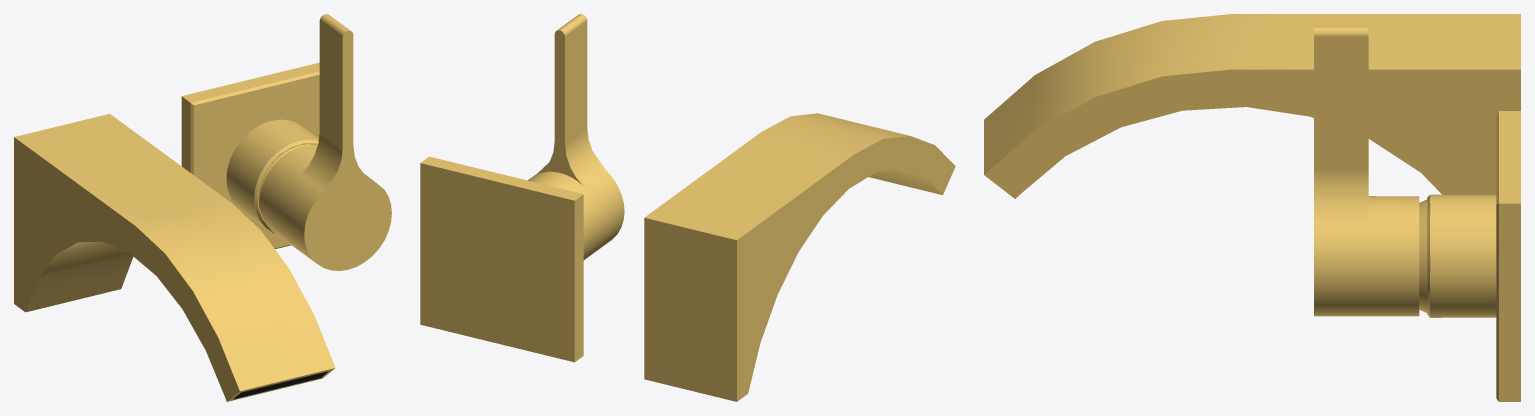
The picture shows the model from 3 angles, left to right: view 1: azimuth 30°, elevation 25°; view 2: azimuth 150°, elevation 25°; view 3: azimuth 270°, elevation 25°; orthographic projection. The views are drawn at different scales.
Parts seen in each view (by area): view 1: L_c026b5e7_eb11_40d8_b0c1_1b7583ea4081_I4, L_928a727d_b490_44d4_9528_7d3cccf2d2c7_I3, L_e762c9f9_117b_4ea6_9dad_26d7e7ed9bc8_I6, L_c2266ba6_3cfb_489b_acec_95be93e11fa8_I5, L_02e41cbb_ec39_4ad6_bd15_9f65e2306764_I1; view 2: L_c026b5e7_eb11_40d8_b0c1_1b7583ea4081_I4, L_e762c9f9_117b_4ea6_9dad_26d7e7ed9bc8_I6, L_928a727d_b490_44d4_9528_7d3cccf2d2c7_I3; view 3: L_c026b5e7_eb11_40d8_b0c1_1b7583ea4081_I4, L_928a727d_b490_44d4_9528_7d3cccf2d2c7_I3, L_c2266ba6_3cfb_489b_acec_95be93e11fa8_I5, L_e762c9f9_117b_4ea6_9dad_26d7e7ed9bc8_I6, L_39e64315_0de5_4fbe_98ba_65e3bbbd578a_I2.
Boxes of the visible parts, x1,y1,x2,y2 form: L_c026b5e7_eb11_40d8_b0c1_1b7583ea4081_I4: (14, 113, 335, 401); L_928a727d_b490_44d4_9528_7d3cccf2d2c7_I3: (260, 14, 391, 270); L_e762c9f9_117b_4ea6_9dad_26d7e7ed9bc8_I6: (181, 62, 319, 249); L_c2266ba6_3cfb_489b_acec_95be93e11fa8_I5: (226, 119, 318, 233); L_02e41cbb_ec39_4ad6_bd15_9f65e2306764_I1: (233, 371, 328, 399); L_c026b5e7_eb11_40d8_b0c1_1b7583ea4081_I4: (644, 113, 955, 401); L_e762c9f9_117b_4ea6_9dad_26d7e7ed9bc8_I6: (420, 156, 583, 362); L_928a727d_b490_44d4_9528_7d3cccf2d2c7_I3: (528, 14, 624, 260); L_c026b5e7_eb11_40d8_b0c1_1b7583ea4081_I4: (984, 14, 1520, 198); L_928a727d_b490_44d4_9528_7d3cccf2d2c7_I3: (1314, 26, 1419, 316); L_c2266ba6_3cfb_489b_acec_95be93e11fa8_I5: (1427, 194, 1496, 317); L_e762c9f9_117b_4ea6_9dad_26d7e7ed9bc8_I6: (1496, 111, 1520, 401); L_39e64315_0de5_4fbe_98ba_65e3bbbd578a_I2: (1419, 199, 1427, 312).
Size of the model in its own units: 0.164 by 0.1325 by 0.1962.
